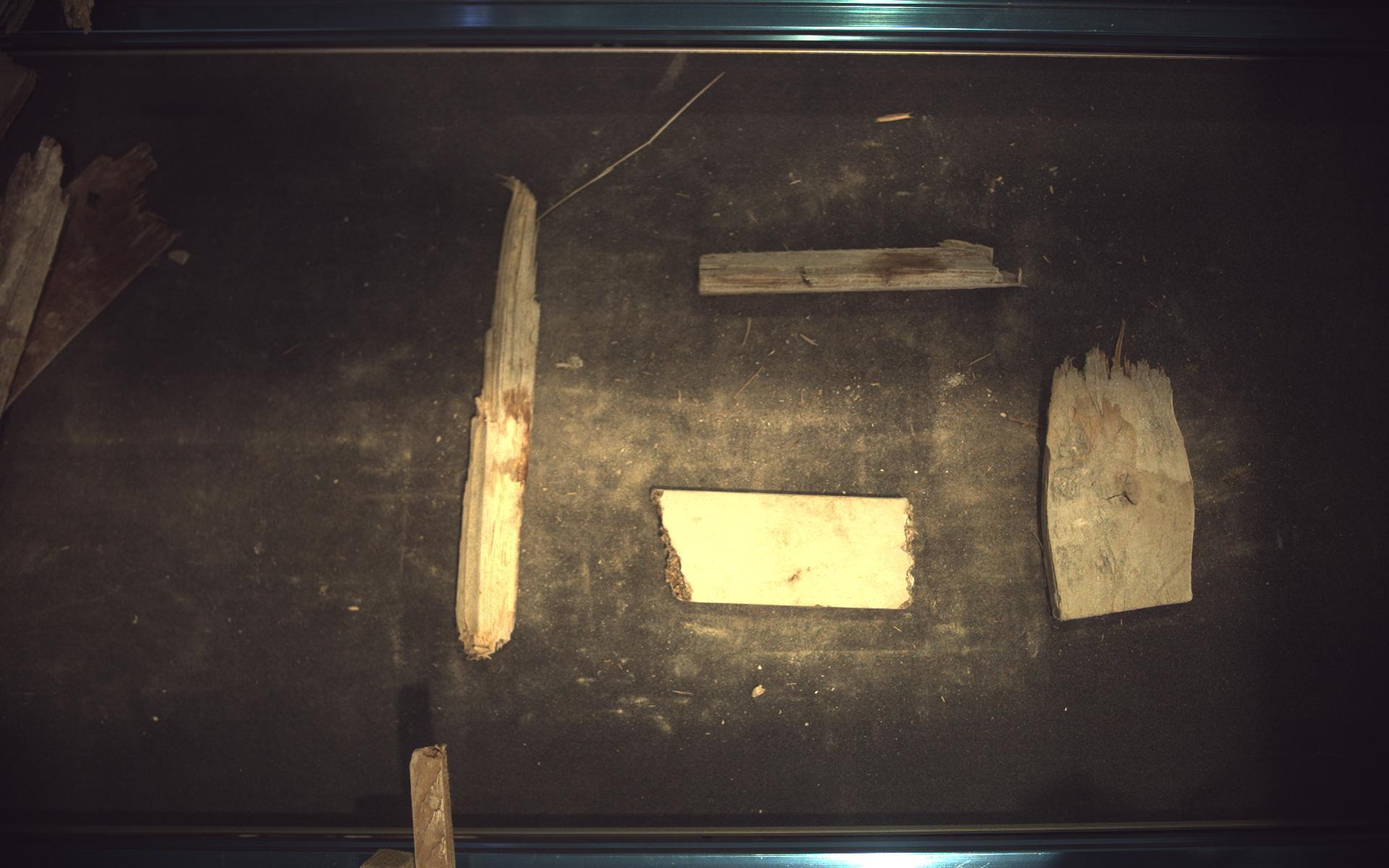wood: (456, 177, 540, 660), (653, 489, 916, 610), (700, 239, 1024, 294)
